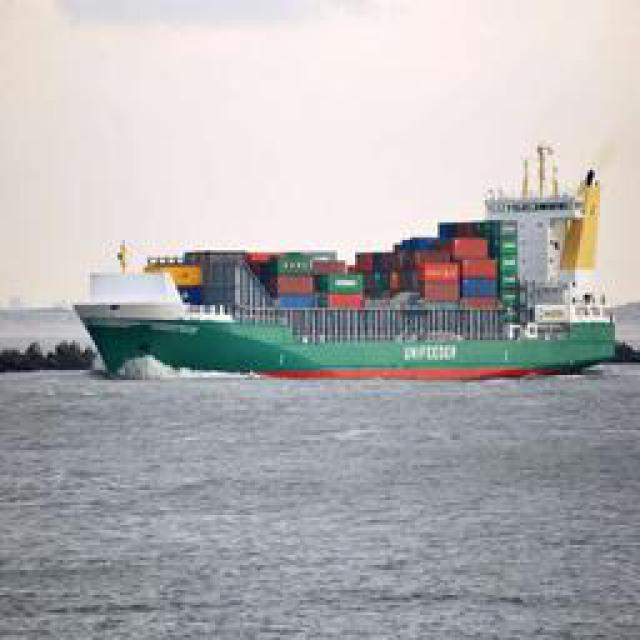Ship: (66, 188, 626, 386)
